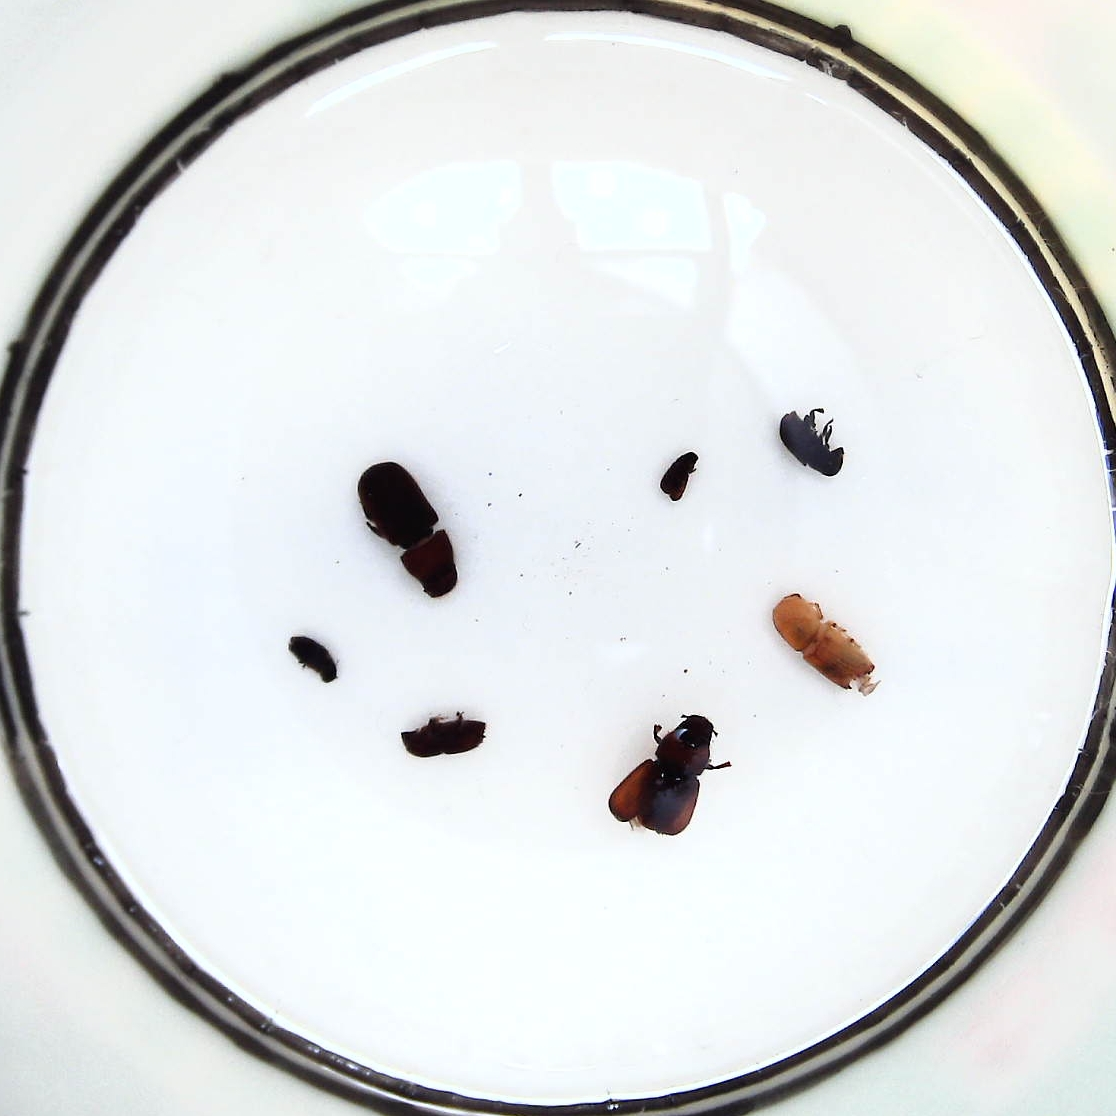Boerner: (772, 593, 876, 697)
Leconte: (358, 462, 457, 597), (608, 714, 713, 835)
acuminatus: (289, 636, 338, 684)
armandi: (780, 411, 845, 475)
coleoptera: (660, 452, 697, 501)
linnaeus: (401, 720, 487, 758)
